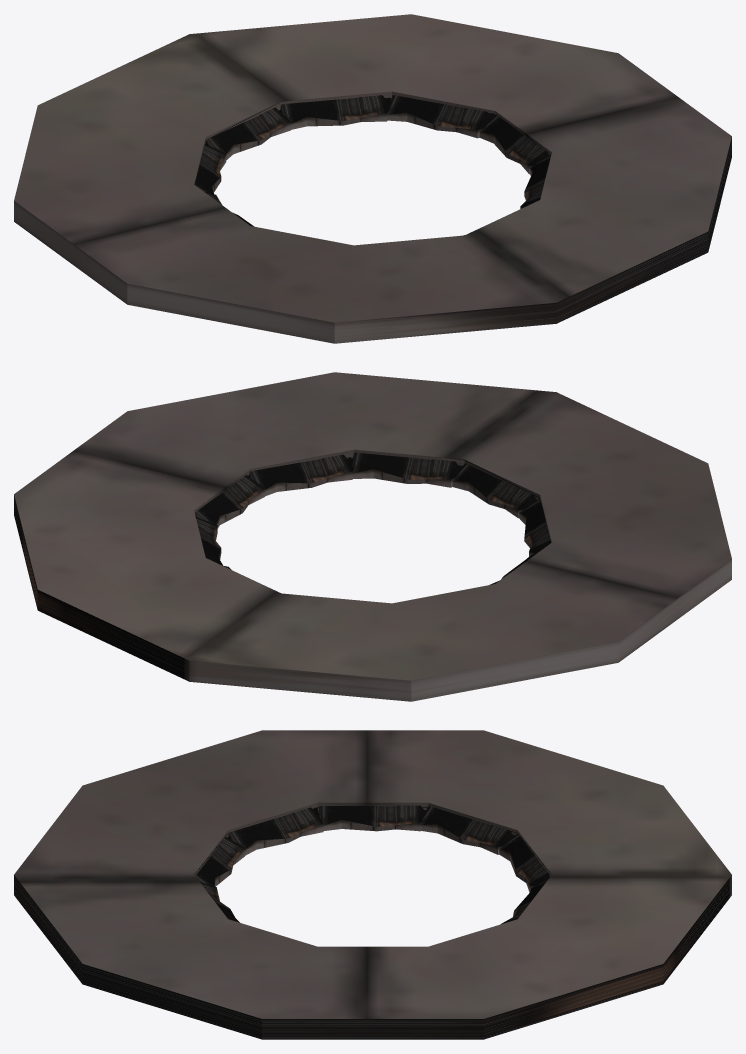
File: TermProject_Arena_walls_out.fbx
The picture shows the model from 3 angles, top to bottom: view 1: azimuth 30°, elevation 25°; view 2: azimuth 150°, elevation 25°; view 3: azimuth 270°, elevation 25°; orthographic projection. The views are drawn at different scales.
Visible parts, largest first — view 1: Cylinder.021; view 2: Cylinder.021; view 3: Cylinder.021.
Boxes of the visible parts, box(x1,y1,x2,y2) form: Cylinder.021: box(14, 14, 731, 343); Cylinder.021: box(14, 372, 731, 701); Cylinder.021: box(14, 730, 731, 1039).
Size of the model in its own units: 6019 by 200 by 6329.
